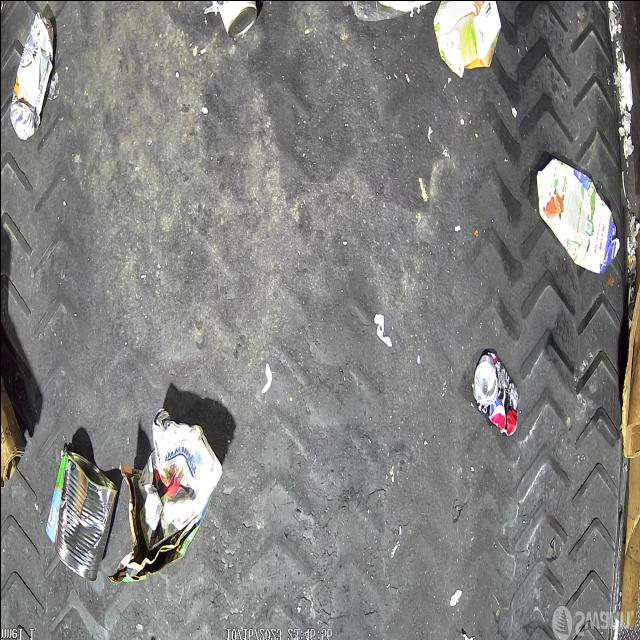can: (52, 449, 118, 582), (8, 10, 54, 140), (472, 350, 518, 436), (210, 0, 256, 36)
non_white_jug: (536, 158, 618, 274), (432, 0, 501, 78)
plastic_bottle: (338, 0, 443, 21)
